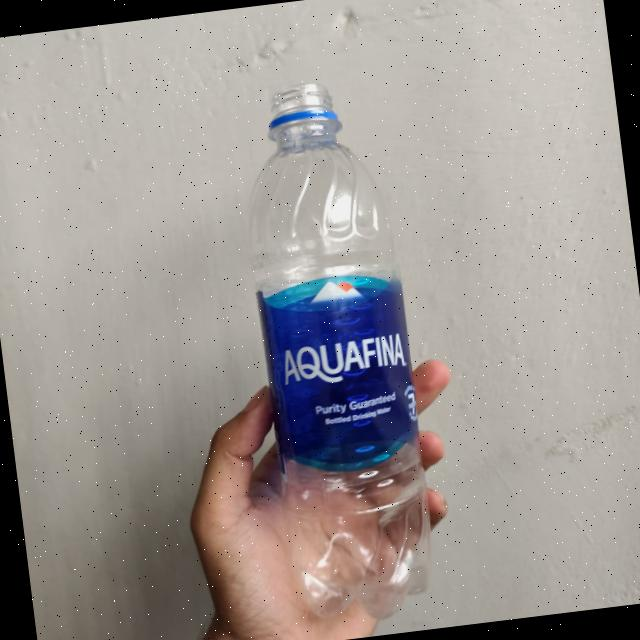bottle: (232, 80, 440, 616)
label: (261, 278, 421, 482)
